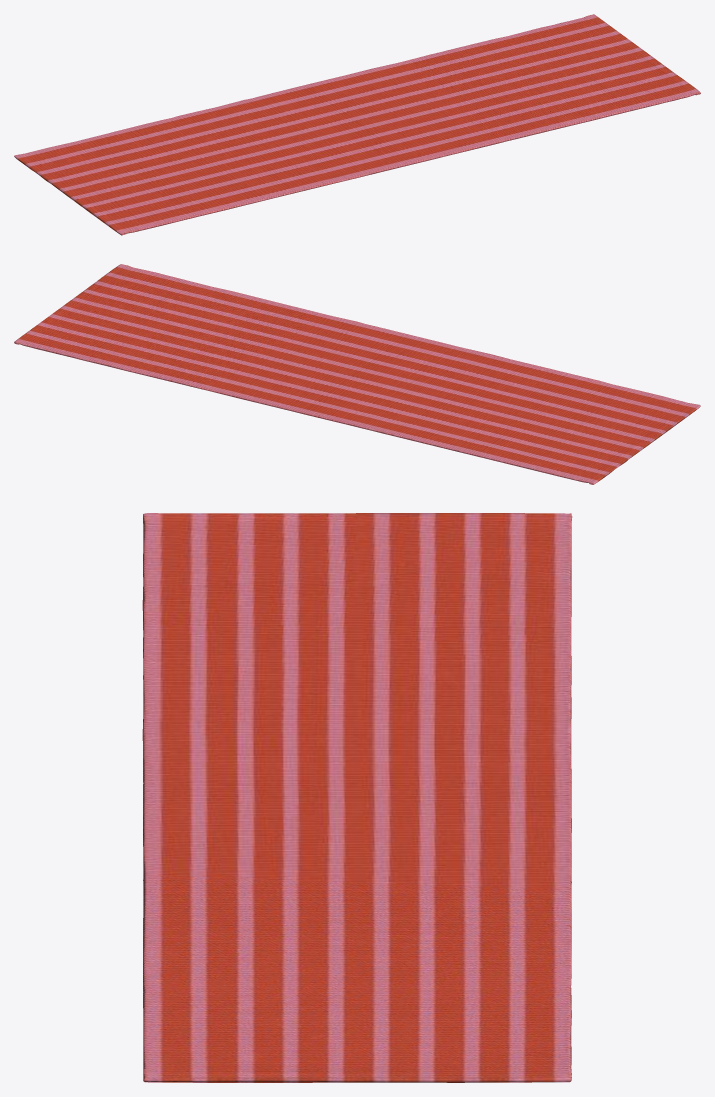
The model's file is 29 - VÄGSKYLT Rug, flatwoven - pinkorange 80x250 cm.glb.
3 renders of one model, top to bottom at view 1: azimuth 30°, elevation 25°; view 2: azimuth 150°, elevation 25°; view 3: azimuth 270°, elevation 25°, orthographic. The views are drawn at different scales.
Parts seen in each view (by area): view 1: ASY_ART_20587009_S01_NV01; view 2: ASY_ART_20587009_S01_NV01; view 3: ASY_ART_20587009_S01_NV01.
Boxes of the visible parts, x1=… form: ASY_ART_20587009_S01_NV01: x1=14, y1=14, x2=700, y2=235; ASY_ART_20587009_S01_NV01: x1=14, y1=264, x2=700, y2=484; ASY_ART_20587009_S01_NV01: x1=142, y1=513, x2=572, y2=1082.
Bounding box in the file's own units: 2.5 × 0.00996 × 0.8003.
1 material, 1 textured.
